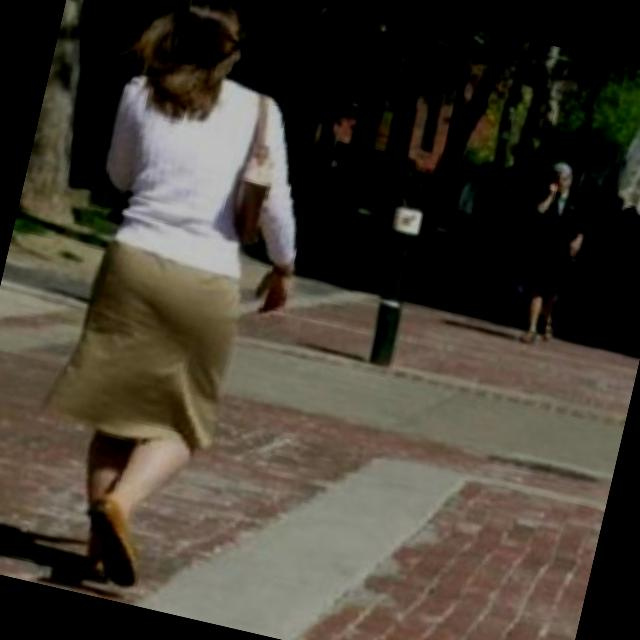Person: (0, 0, 356, 608), (493, 147, 623, 362)
